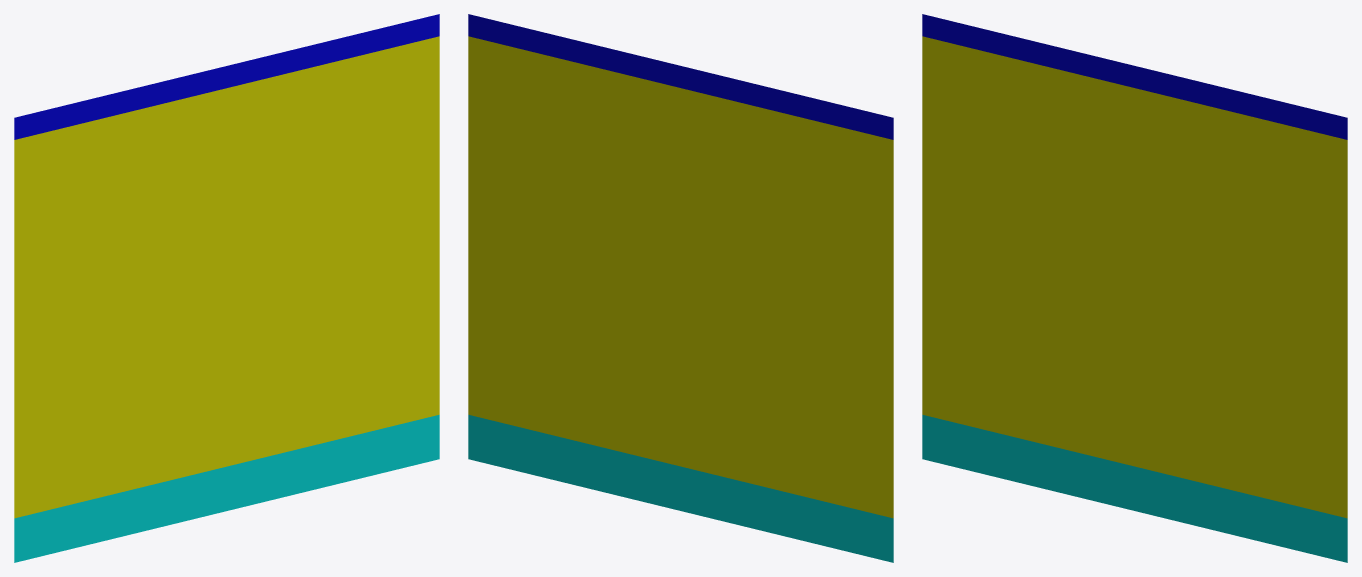
File: Trim_3.fbx
3 renders of one model, left to right at view 1: azimuth 30°, elevation 25°; view 2: azimuth 150°, elevation 25°; view 3: azimuth 330°, elevation 25°, orthographic.
Parts seen in each view (by area): view 1: Trim_3; view 2: Trim_3; view 3: Trim_3.
Part boxes in pixels (bbox=[...]): Trim_3: bbox=[14, 14, 439, 562]; Trim_3: bbox=[468, 14, 893, 562]; Trim_3: bbox=[922, 14, 1347, 562].
Size of the model in its own units: 307 by 307 by 2.13e-14.
